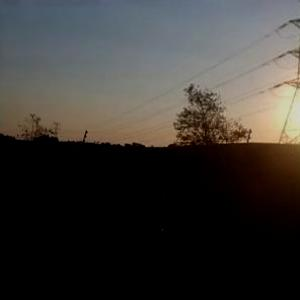follow: (122, 159, 182, 299)
